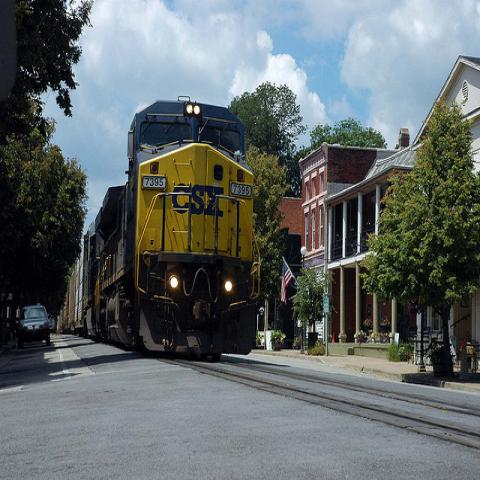car: (18, 307, 50, 349), (48, 315, 57, 334)
